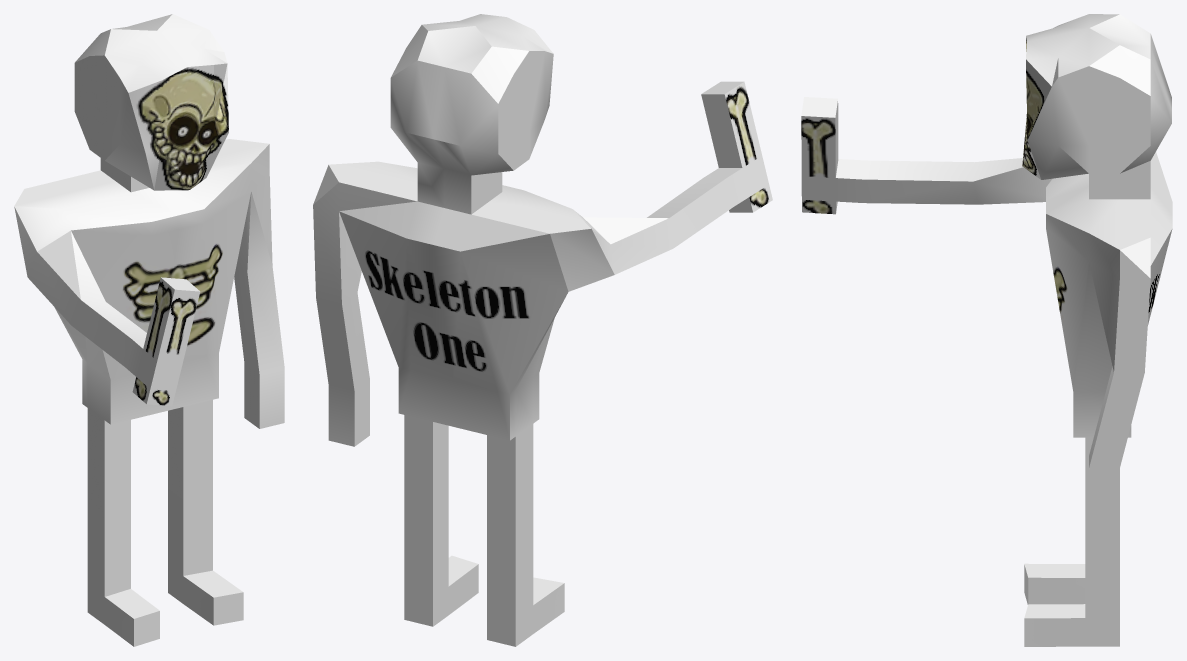
The model's file is SkeletonOneDymmy_20230913.fbx.
3 renders of one model, left to right at view 1: azimuth 30°, elevation 25°; view 2: azimuth 150°, elevation 25°; view 3: azimuth 270°, elevation 25°, orthographic. The views are drawn at different scales.
Visible parts, largest first — view 1: SkeletonOneDummy; view 2: SkeletonOneDummy; view 3: SkeletonOneDummy.
Part boxes in pixels (x1=…): SkeletonOneDummy: x1=14, y1=14, x2=284, y2=646; SkeletonOneDummy: x1=313, y1=14, x2=772, y2=646; SkeletonOneDummy: x1=801, y1=14, x2=1172, y2=646.
Size of the model in its own units: 2.55 by 5.08 by 2.89.
